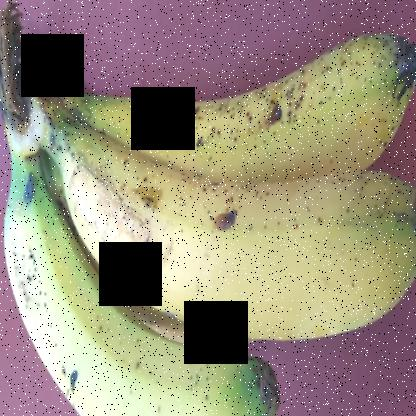ripe: (44, 14, 408, 189), (64, 159, 412, 342), (6, 190, 283, 415)
